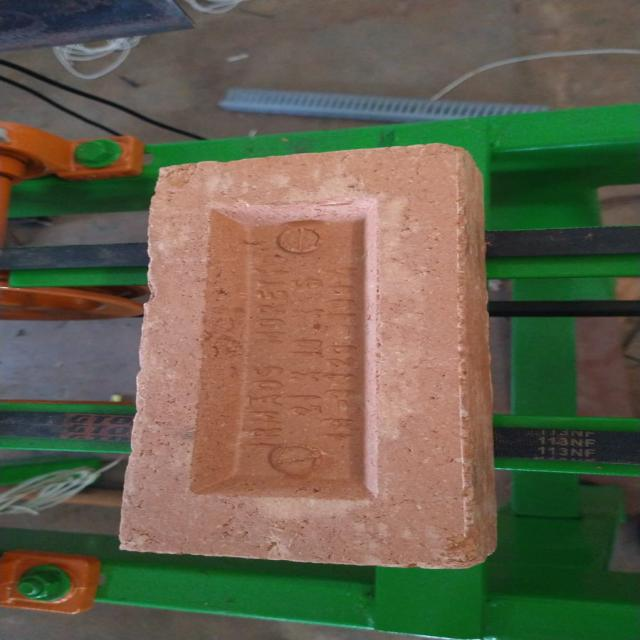bricks: (118, 140, 498, 571)
